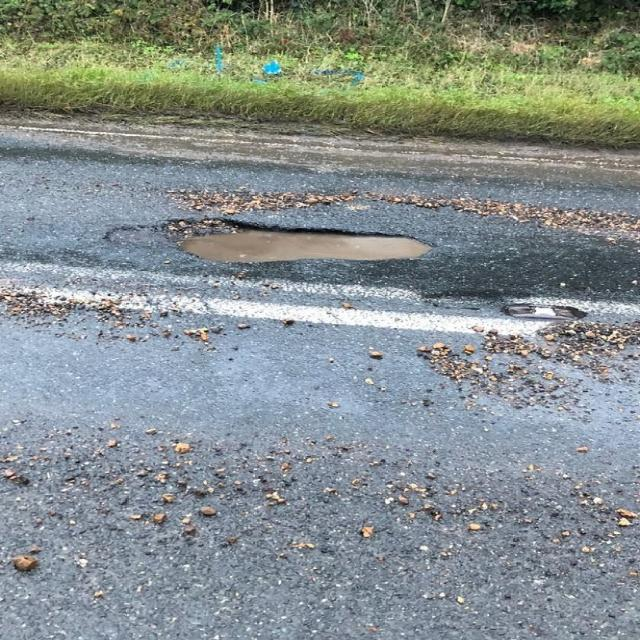Pothole: (96, 213, 440, 268)
